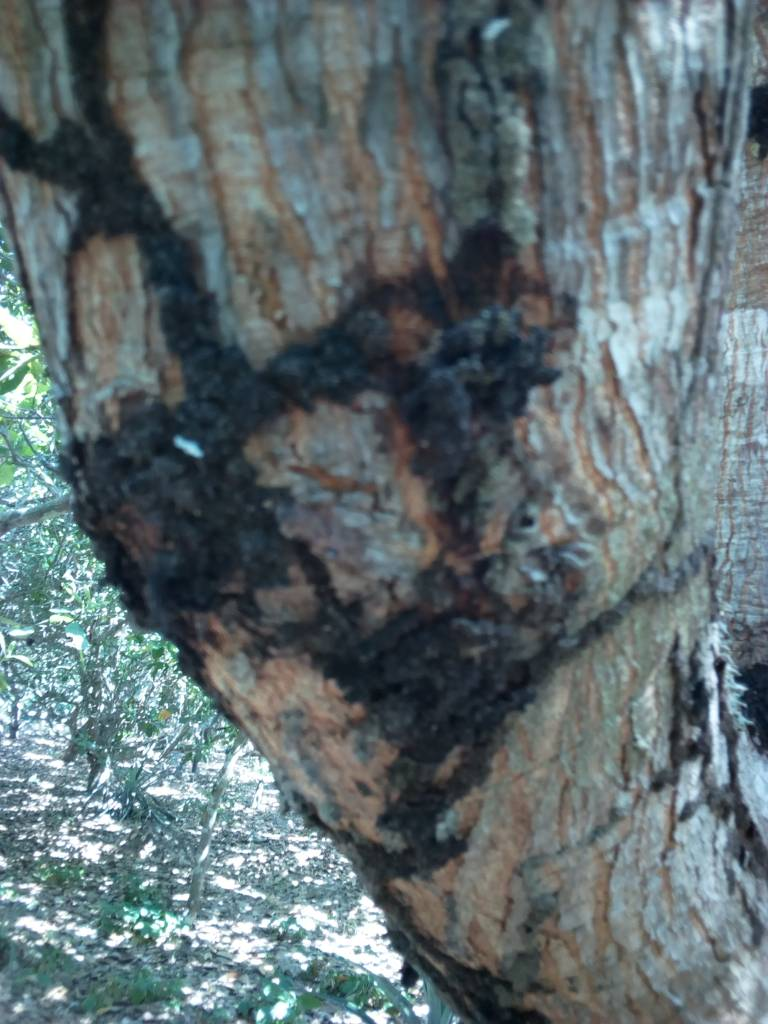Termites: (60, 82, 646, 844)
